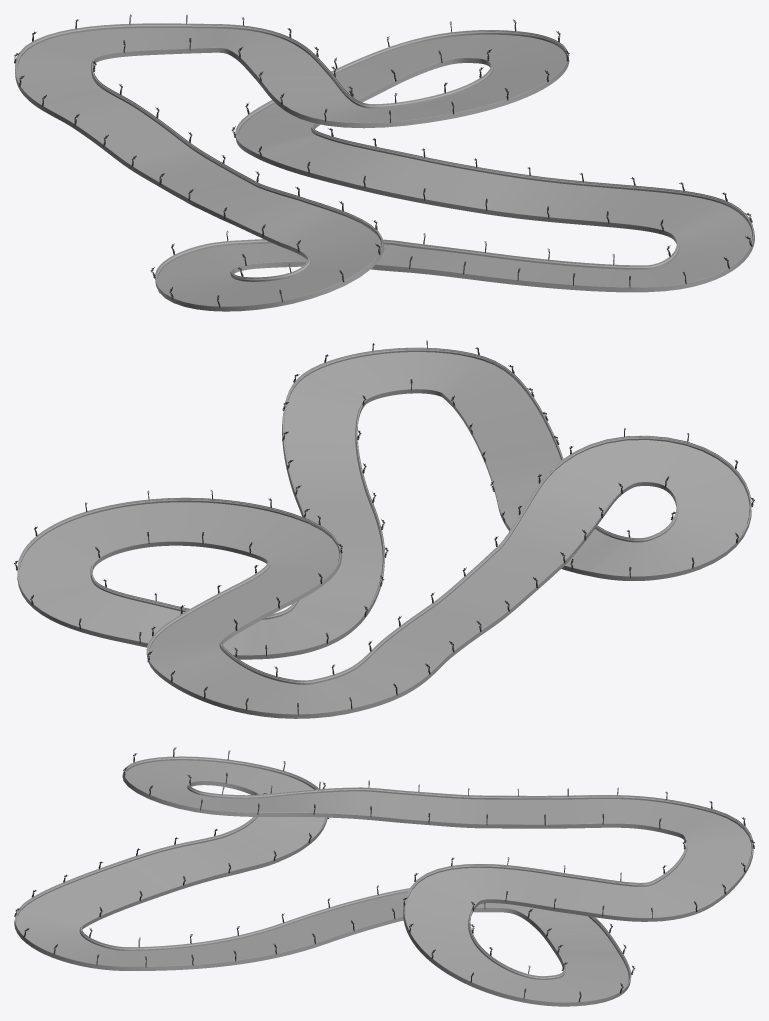
File: Robot_Track.fbx
3 views of the same model, one above another, from view 1: azimuth 30°, elevation 25°; view 2: azimuth 150°, elevation 25°; view 3: azimuth 270°, elevation 25° (orthographic). The views are drawn at different scales.
Parts seen in each view (by area): view 1: Track2, MASH3_ReproMesh1, MASH2_ReproMesh1; view 2: Track2, MASH3_ReproMesh1, MASH2_ReproMesh1; view 3: Track2, MASH3_ReproMesh1, MASH2_ReproMesh1.
Boxes of the visible parts, <box> form: Track2: <box>15,23,754,311</box>; MASH3_ReproMesh1: <box>92,19,670,307</box>; MASH2_ReproMesh1: <box>14,14,752,287</box>; Track2: <box>17,347,751,718</box>; MASH3_ReproMesh1: <box>14,379,754,676</box>; MASH2_ReproMesh1: <box>95,340,676,715</box>; Track2: <box>14,756,753,1006</box>; MASH3_ReproMesh1: <box>89,747,686,1002</box>; MASH2_ReproMesh1: <box>14,772,754,973</box>.
Size of the model in its own units: 12754 by 1915 by 16788.
